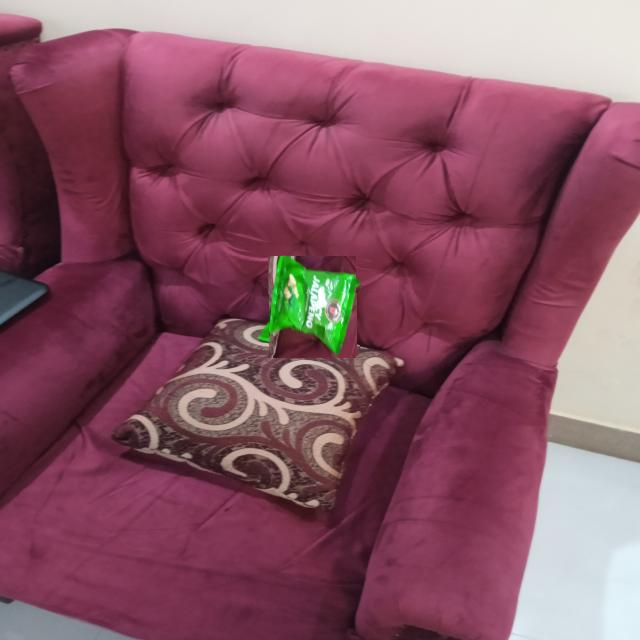Plastic: (264, 260, 360, 355)
